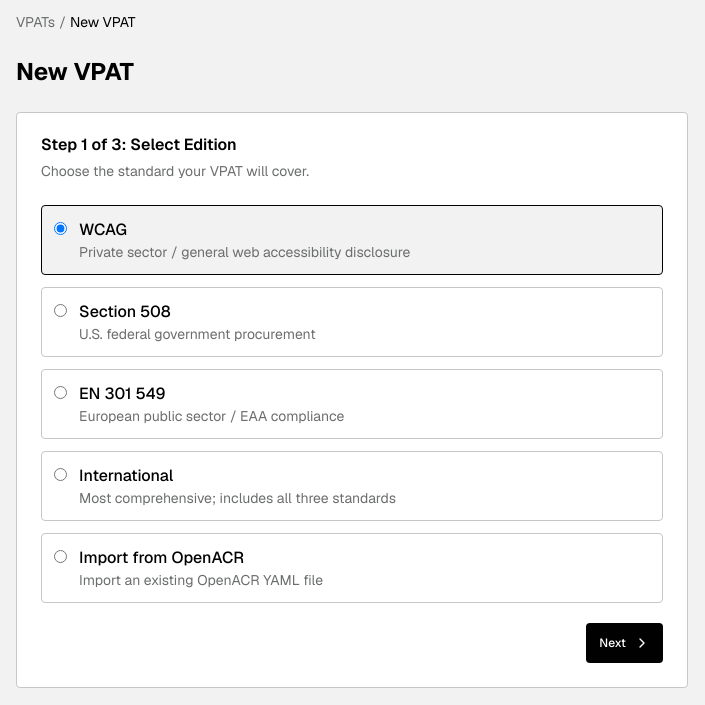
NewVpatPage › advances to YAML upload step when Import tile is selected
Click the text "Import from OpenACR" at (162, 558), box [79,547,244,568]
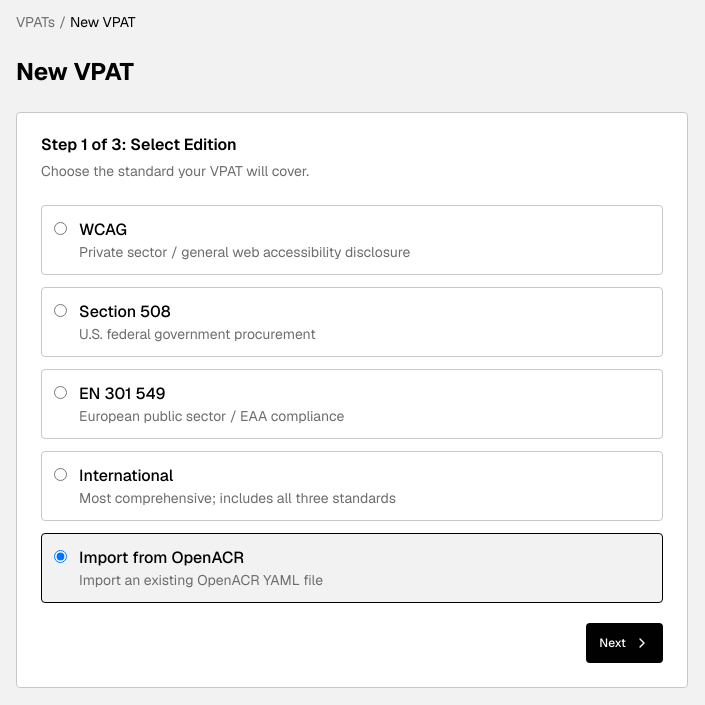
Click the button "Next" at (625, 643), box [586,623,663,663]
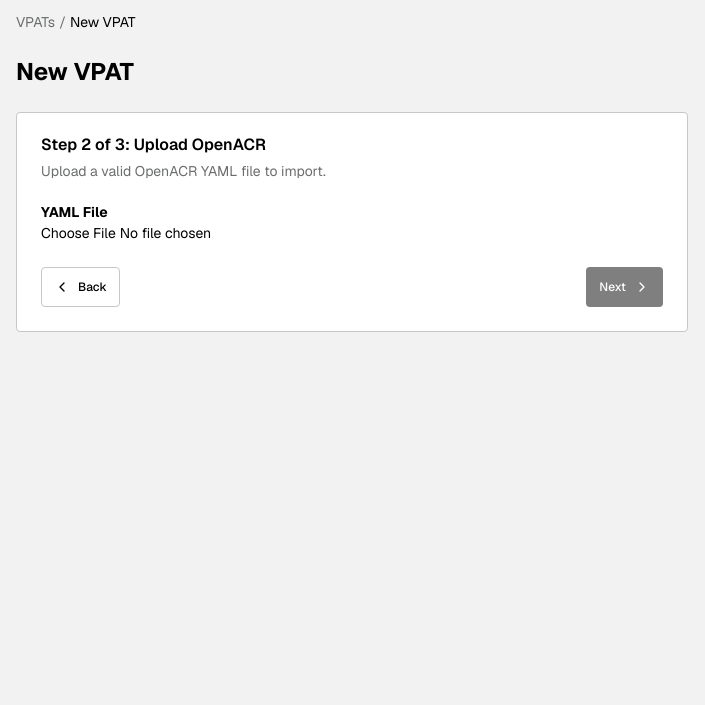
Expected: the file field labelled "YAML File" is shown, [41,223,663,243]
